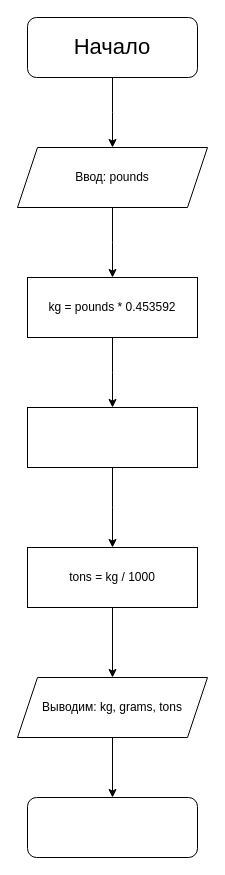
Some shapes in this 225 by 875 pixel diagram are drawn without their labels. Each missing label, with the centre of its shape:
"grams = kg * 1000" goes at point (112, 437).
"Конец" goes at point (112, 827).
